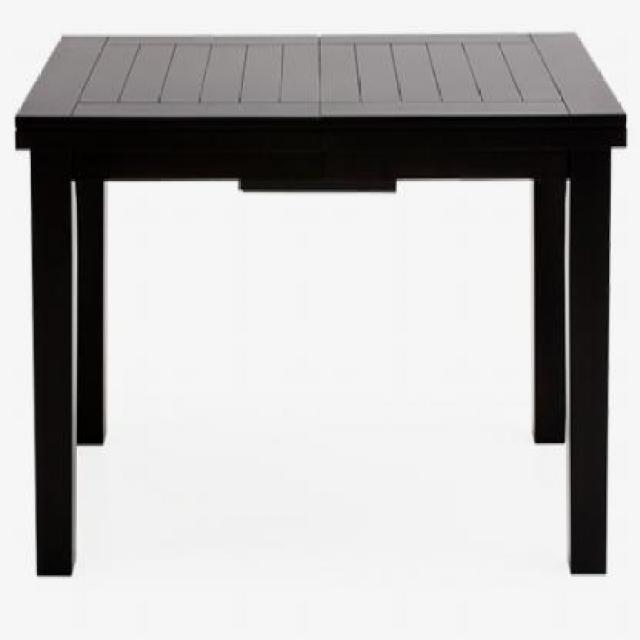table: (13, 31, 629, 572)
